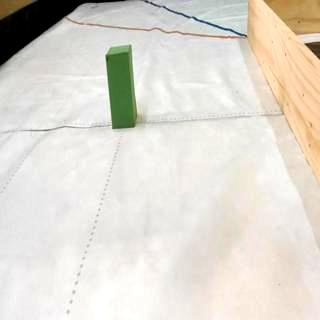greenbox: (106, 47, 138, 129)
